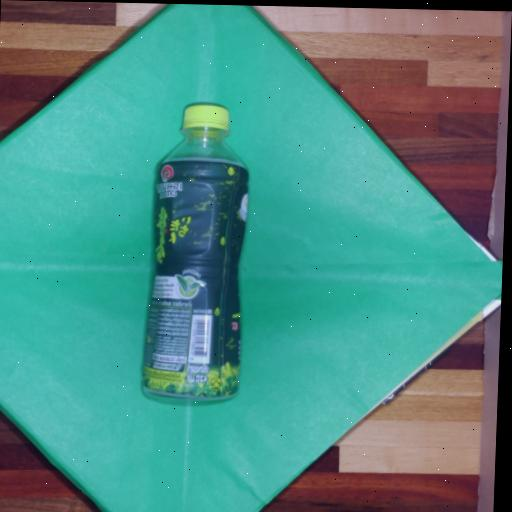bottle: (125, 74, 272, 423)
